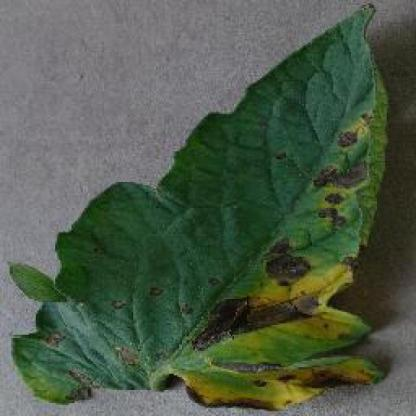Tomato_Blight: (10, 3, 388, 410)
